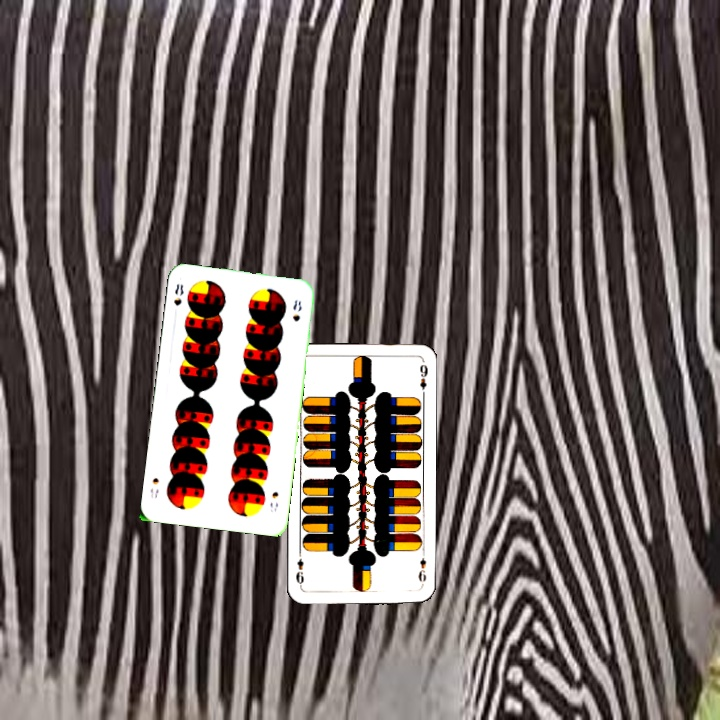E9: (414, 547, 429, 588)
S8: (170, 280, 186, 308), (266, 488, 281, 514)
